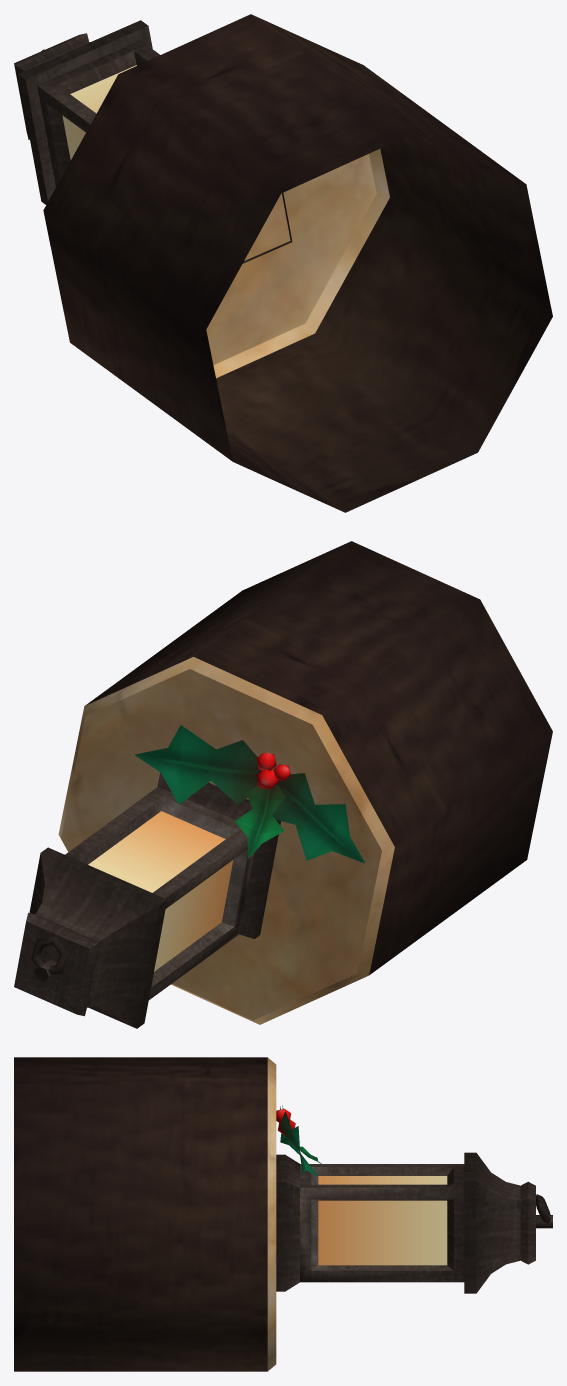
File: Lantern_B.fbx
The picture shows the model from 3 angles, top to bottom: view 1: azimuth 30°, elevation 25°; view 2: azimuth 150°, elevation 25°; view 3: azimuth 270°, elevation 25°; orthographic projection. The views are drawn at different scales.
Parts seen in each view (by area): view 1: Lantern_B; view 2: Lantern_B; view 3: Lantern_B.
Part boxes in pixels (x1,y1,x2,y2): Lantern_B: (14,14,552,512); Lantern_B: (14,541,552,1028); Lantern_B: (14,1057,552,1371).
Bounding box in the file's own units: 17.22 × 17.22 × 29.76.
